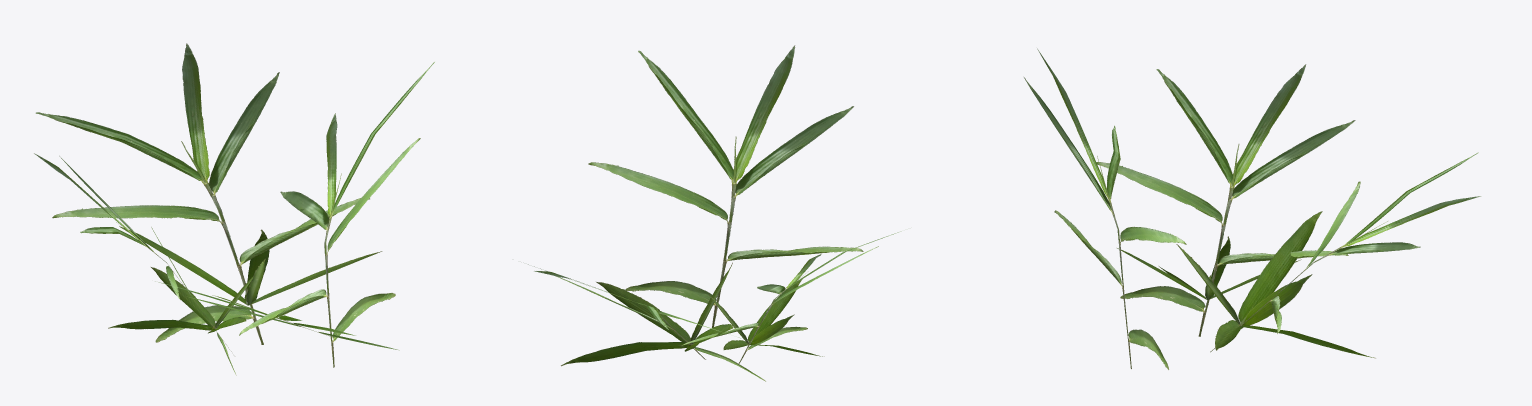
The model's file is m_grass_29_3.fbx.
3 views of the same model, side by side, from view 1: azimuth 30°, elevation 25°; view 2: azimuth 150°, elevation 25°; view 3: azimuth 270°, elevation 25° (orthographic). The views are drawn at different scales.
Visible parts, largest first — view 1: mesh_grass_29_3_LOD0; view 2: mesh_grass_29_3_LOD0; view 3: mesh_grass_29_3_LOD0.
Boxes of the visible parts, x1,y1,x2,y2 form: mesh_grass_29_3_LOD0: (34,43,434,375); mesh_grass_29_3_LOD0: (528,45,901,381); mesh_grass_29_3_LOD0: (1024,48,1481,369).
Size of the model in its own units: 0.5966 by 0.4828 by 0.7392.
